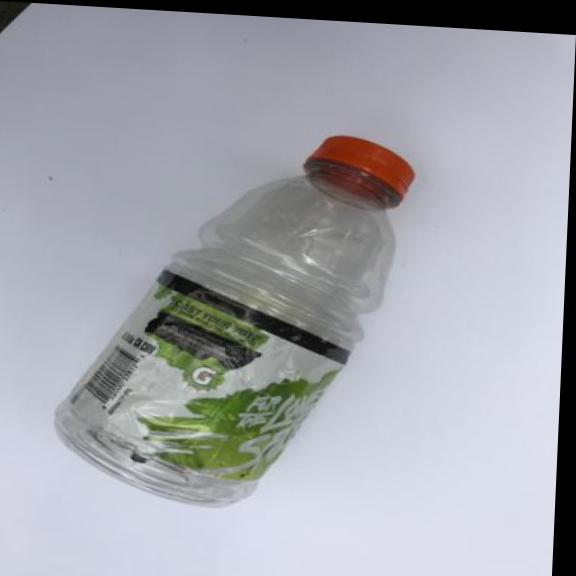Plastik: (42, 115, 423, 525)
